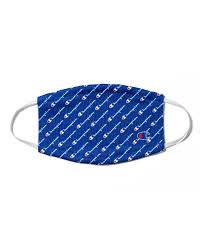cloth_mask: (9, 84, 197, 167)
